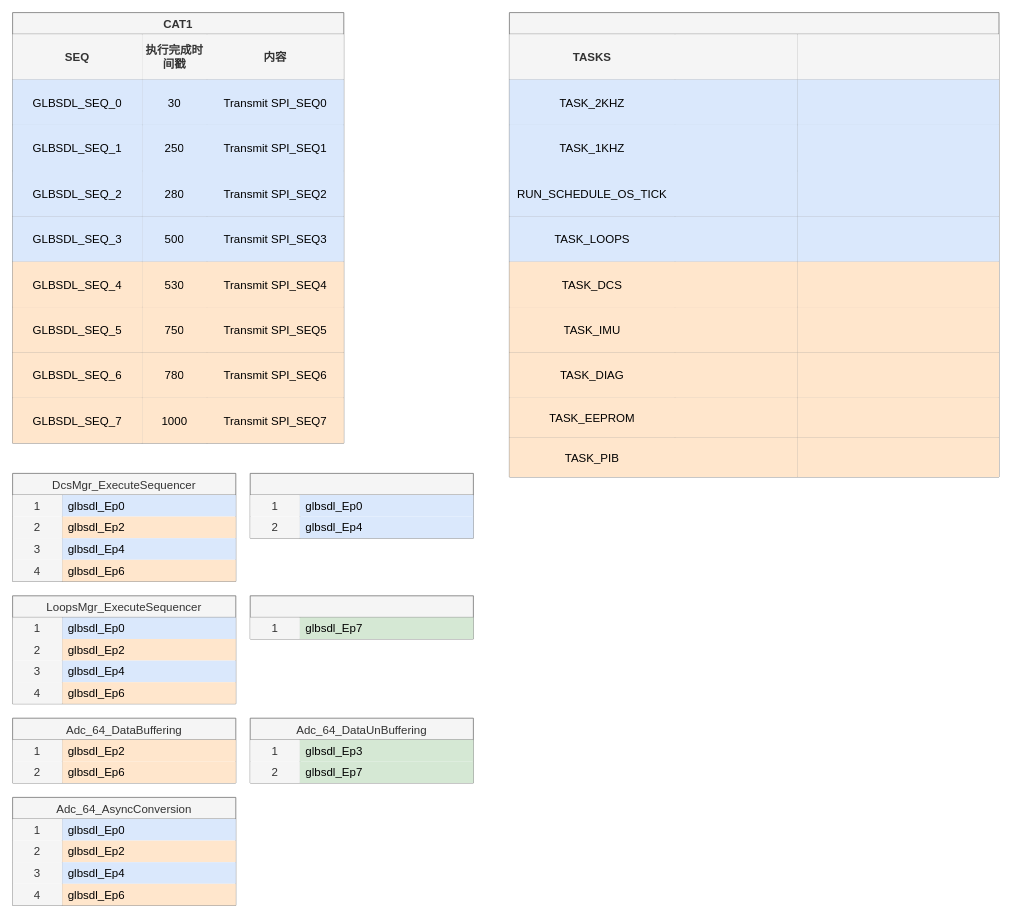
Some shapes in this 1012 by 918 pixel diagram are drawn without their labels. The box of each missing label's shape, as (x1, y1, x2, y2) in pixels:
CAT2: (509, 12, 999, 477)
glbsdl_RunOsTick: (249, 595, 473, 639)
PwrMgr_ExecuteSequencer: (249, 473, 473, 538)
